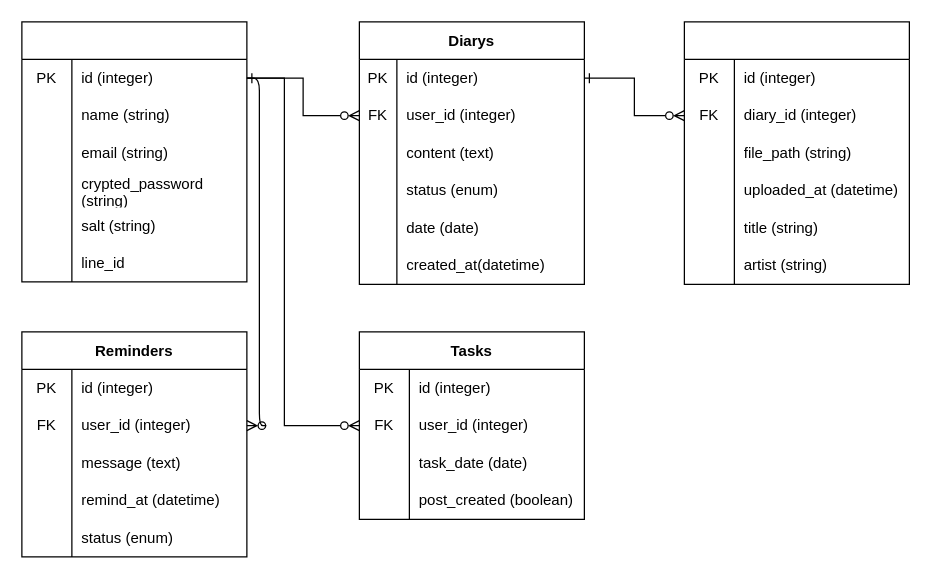
Some shapes in this 931 by 579 pixel diagram are drawn without their labels. Here are the shapes that lost their labels. From the top down, the box of each, then its label:
(21, 21, 247, 282): Users
(683, 21, 909, 284): Videos
